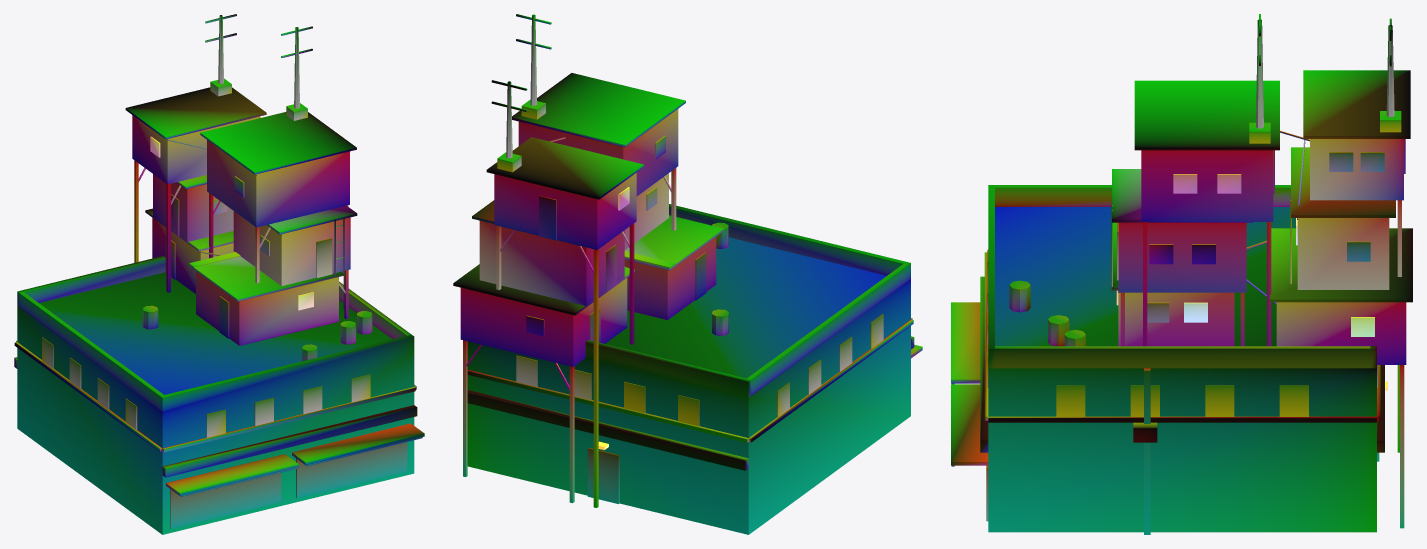
File: Slum_Tower_V2.fbx
3 views of the same model, side by side, from view 1: azimuth 30°, elevation 25°; view 2: azimuth 150°, elevation 25°; view 3: azimuth 270°, elevation 25° (orthographic). The views are drawn at different scales.
Visible parts, largest first — view 1: Slum_Tower_V2_LOD0; view 2: Slum_Tower_V2_LOD0; view 3: Slum_Tower_V2_LOD0.
Boxes of the visible parts, x1,y1,x2,y2 form: Slum_Tower_V2_LOD0: (14, 14, 424, 534); Slum_Tower_V2_LOD0: (453, 14, 922, 534); Slum_Tower_V2_LOD0: (951, 14, 1412, 534).
Size of what is drawn, in the model's own units: 15.35 by 20.82 by 17.36.
